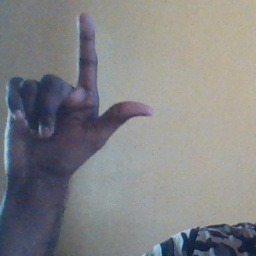L: (3, 8, 158, 182)
